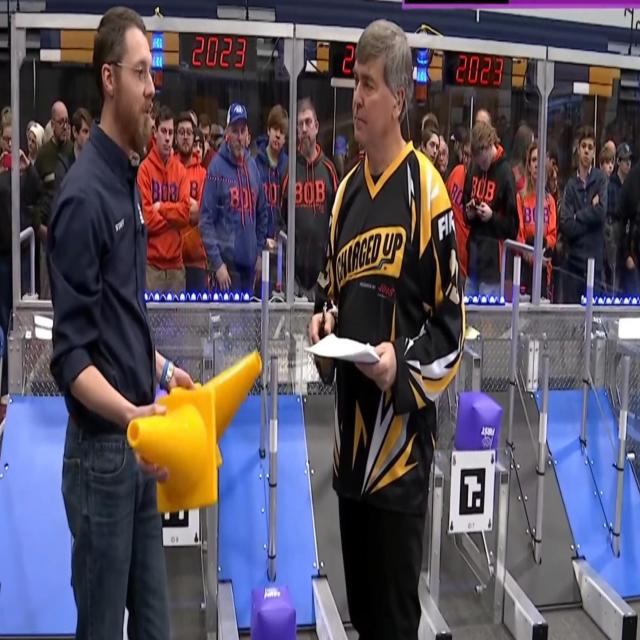frc_cone: (125, 391, 221, 508), (214, 348, 262, 441)
frc_cube: (454, 390, 501, 457), (250, 584, 297, 640)
